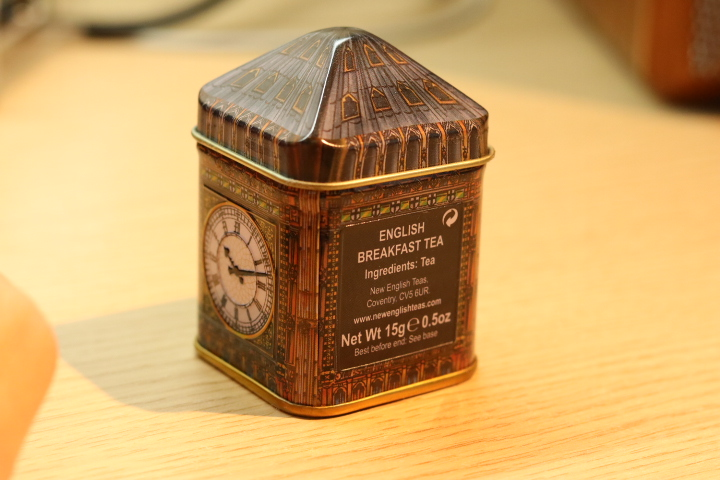Big Ben: (171, 14, 517, 430)
